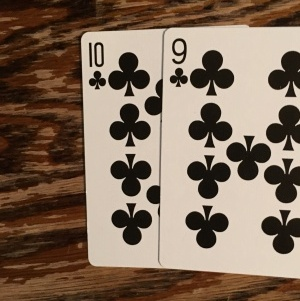card: (80, 29, 163, 272)
